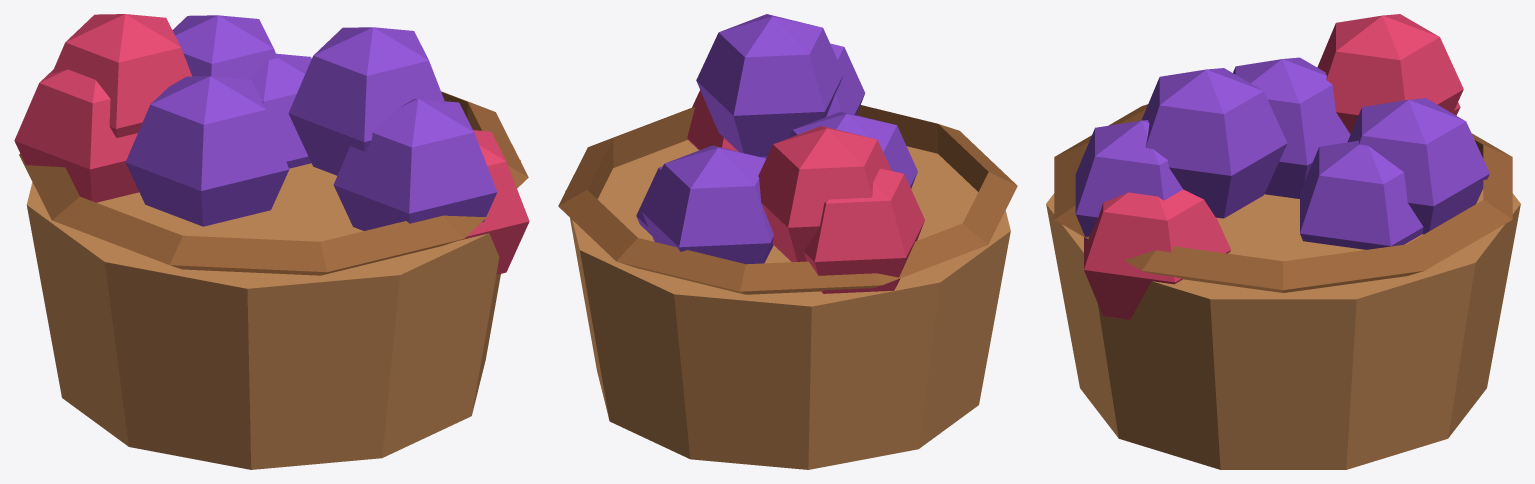
The model's file is good_berries.glb.
3 views of the same model, side by side, from view 1: azimuth 30°, elevation 25°; view 2: azimuth 150°, elevation 25°; view 3: azimuth 270°, elevation 25° (orthographic). The views are drawn at different scales.
Visible parts, largest first — view 1: good_berries; view 2: good_berries; view 3: good_berries.
Boxes of the visible parts, left/top/right/bottom form: good_berries: left=14, top=14, right=529, bottom=469; good_berries: left=558, top=14, right=1017, bottom=469; good_berries: left=1046, top=14, right=1520, bottom=469.
Bounding box in the file's own units: 0.284 × 0.2247 × 0.28.
